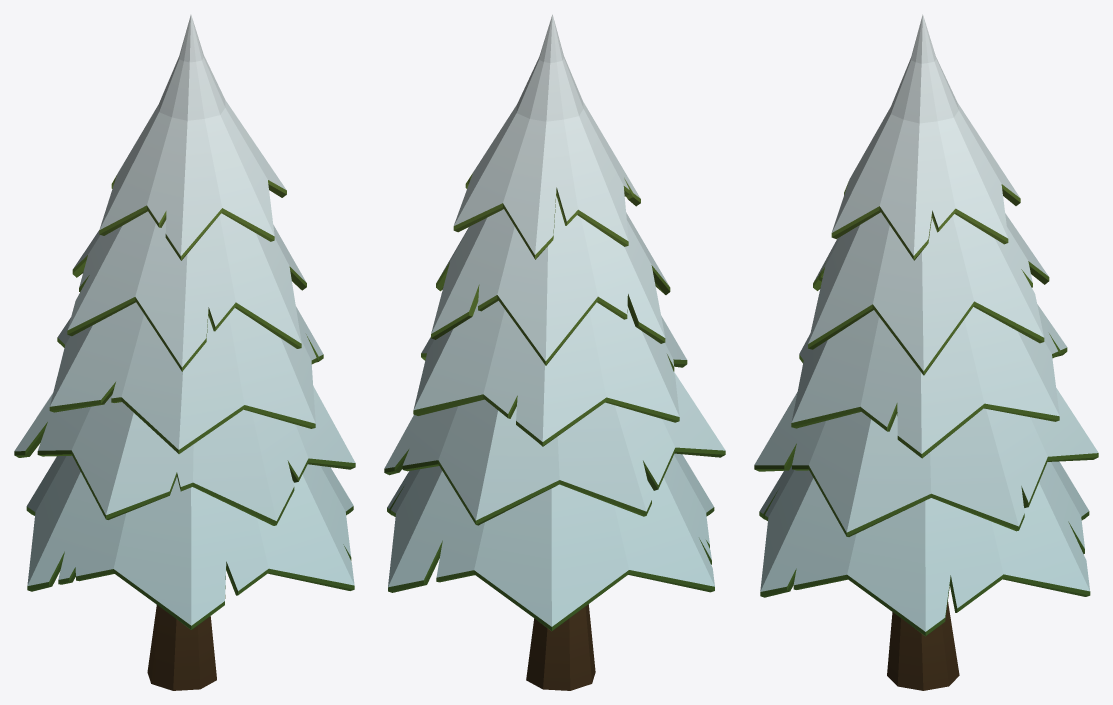
File: Winter_Tree_02.glb
3 views of the same model, side by side, from view 1: azimuth 30°, elevation 25°; view 2: azimuth 150°, elevation 25°; view 3: azimuth 270°, elevation 25° (orthographic).
Visible parts, largest first — view 1: Winter_Tree_02_LOD0; view 2: Winter_Tree_02_LOD0; view 3: Winter_Tree_02_LOD0.
Part boxes in pixels (x1,y1,x2,y2): Winter_Tree_02_LOD0: (14, 14, 355, 690); Winter_Tree_02_LOD0: (384, 14, 725, 690); Winter_Tree_02_LOD0: (754, 14, 1098, 690).
Size of what is drawn, in the model's own units: 1.92 by 3.7 by 1.73.
1 material, 1 textured.
